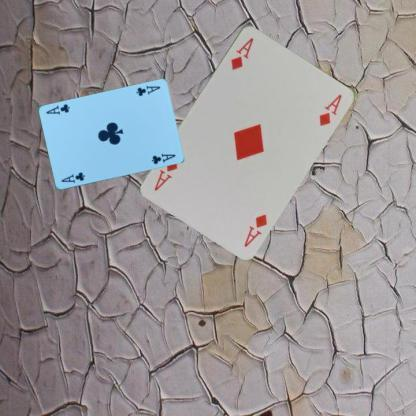Ac: (133, 82, 162, 98), (58, 170, 86, 184)
Ad: (228, 34, 255, 71), (242, 211, 269, 248)
